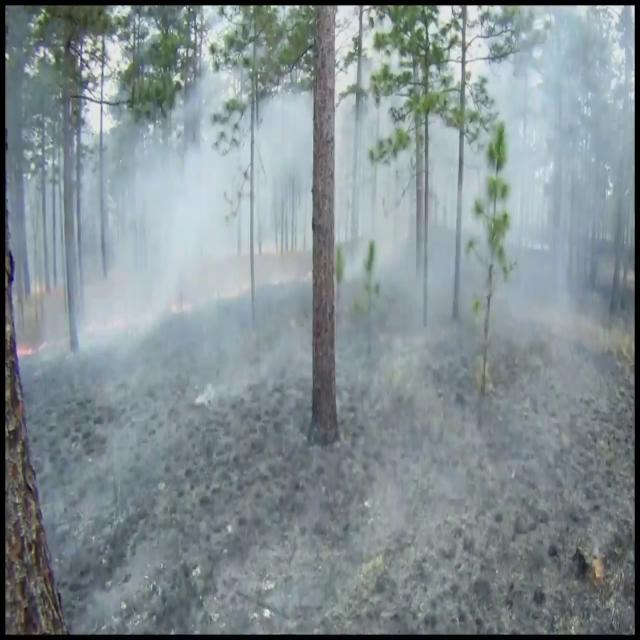Smoke: (54, 24, 626, 428), (351, 11, 634, 408)
